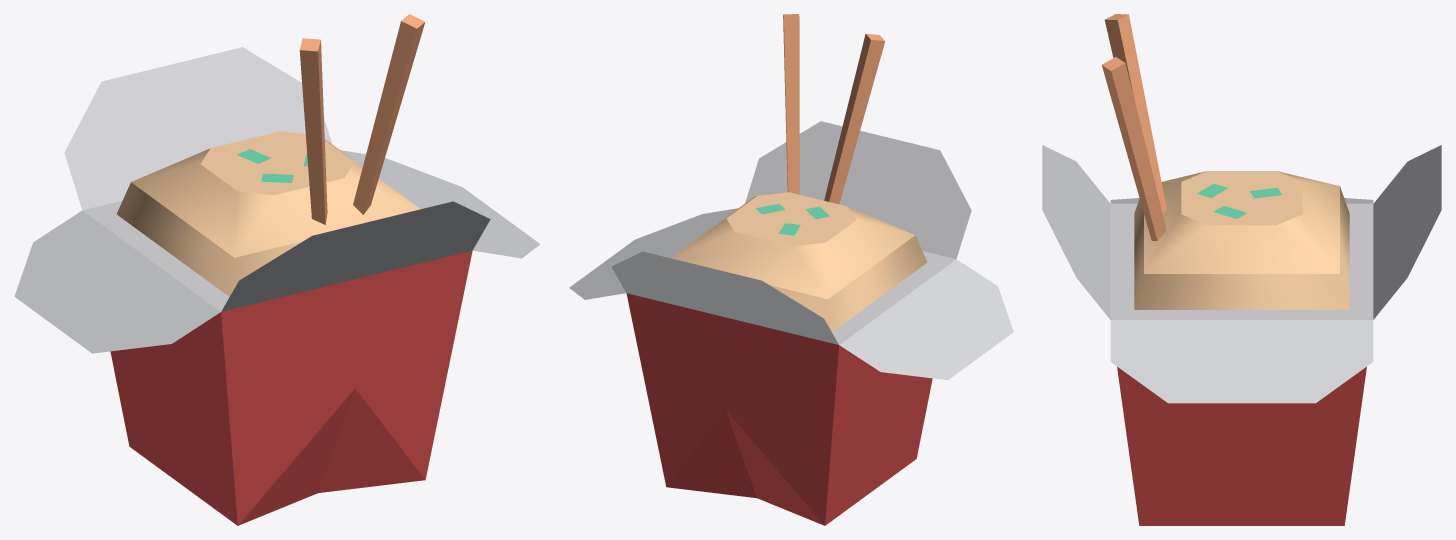
Rendered from noodle.gltf.
3 renders of one model, left to right at view 1: azimuth 30°, elevation 25°; view 2: azimuth 150°, elevation 25°; view 3: azimuth 270°, elevation 25°, orthographic. The views are drawn at different scales.
Visible parts, largest first — view 1: chinese, chopstick, chopstick.001; view 2: chinese, chopstick.001, chopstick; view 3: chinese, chopstick, chopstick.001.
Part boxes in pixels (left/top/right/bottom): chinese: left=14, top=47, right=540, bottom=525; chopstick: left=353, top=14, right=425, bottom=214; chopstick.001: left=299, top=38, right=327, bottom=224; chinese: left=569, top=121, right=1013, bottom=525; chopstick.001: left=824, top=33, right=885, bottom=204; chopstick: left=783, top=14, right=799, bottom=194; chinese: left=1042, top=145, right=1441, bottom=525; chopstick: left=1102, top=57, right=1166, bottom=240; chopstick.001: left=1104, top=14, right=1166, bottom=213.
Bounding box in the file's own units: 0.5575 × 0.5671 × 0.4538.
